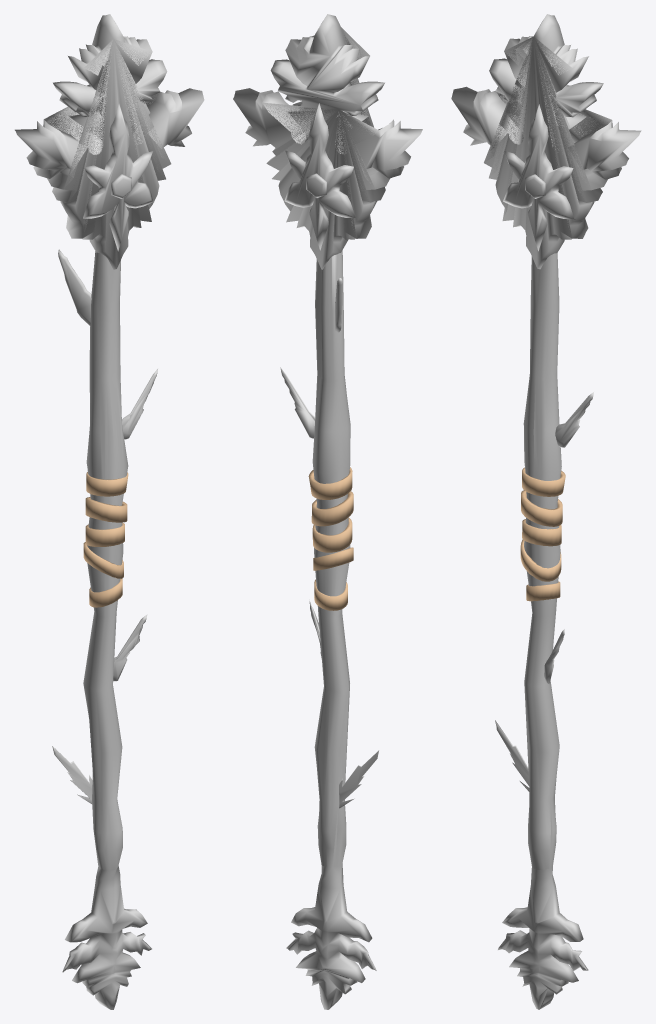
File: BaseIceStaff.fbx
3 views of the same model, side by side, from view 1: azimuth 30°, elevation 25°; view 2: azimuth 150°, elevation 25°; view 3: azimuth 330°, elevation 25° (orthographic).
Visible parts, largest first — view 1: BaseIceStaff.002; view 2: BaseIceStaff.002; view 3: BaseIceStaff.002.
Part boxes in pixels (<box>): BaseIceStaff.002: <box>15,14,204,1009</box>; BaseIceStaff.002: <box>233,14,422,1009</box>; BaseIceStaff.002: <box>451,14,641,1009</box>.
Size of the model in its own units: 34.67 by 178 by 10.7.
